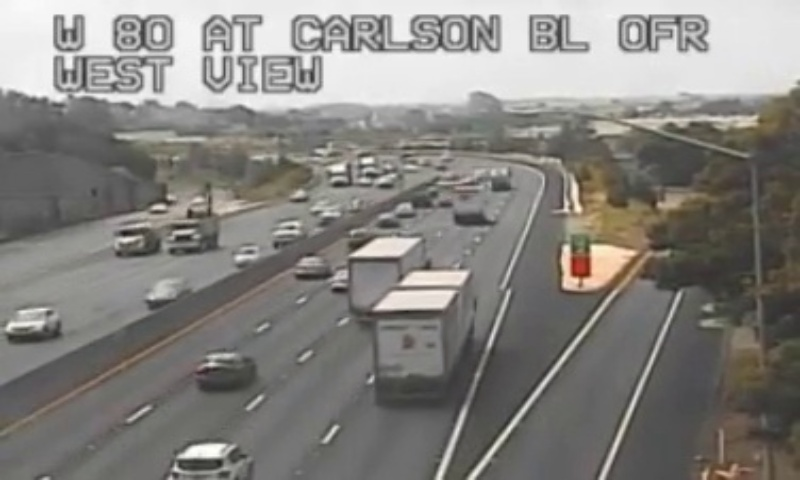car: (172, 442, 251, 480), (195, 353, 253, 386), (294, 256, 328, 277)
truck: (368, 268, 476, 396), (346, 236, 427, 321)
